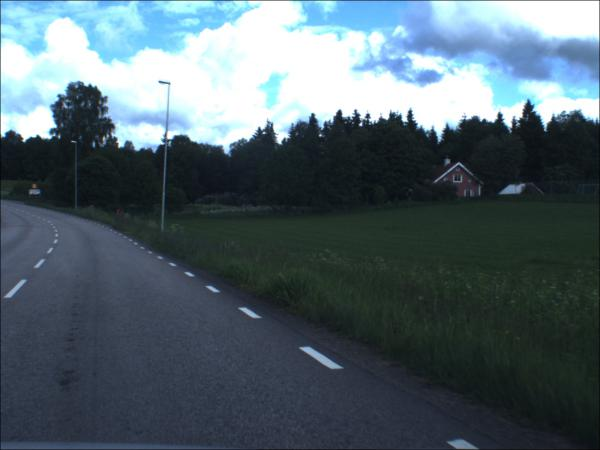80_SIGN: (33, 185, 39, 191)
